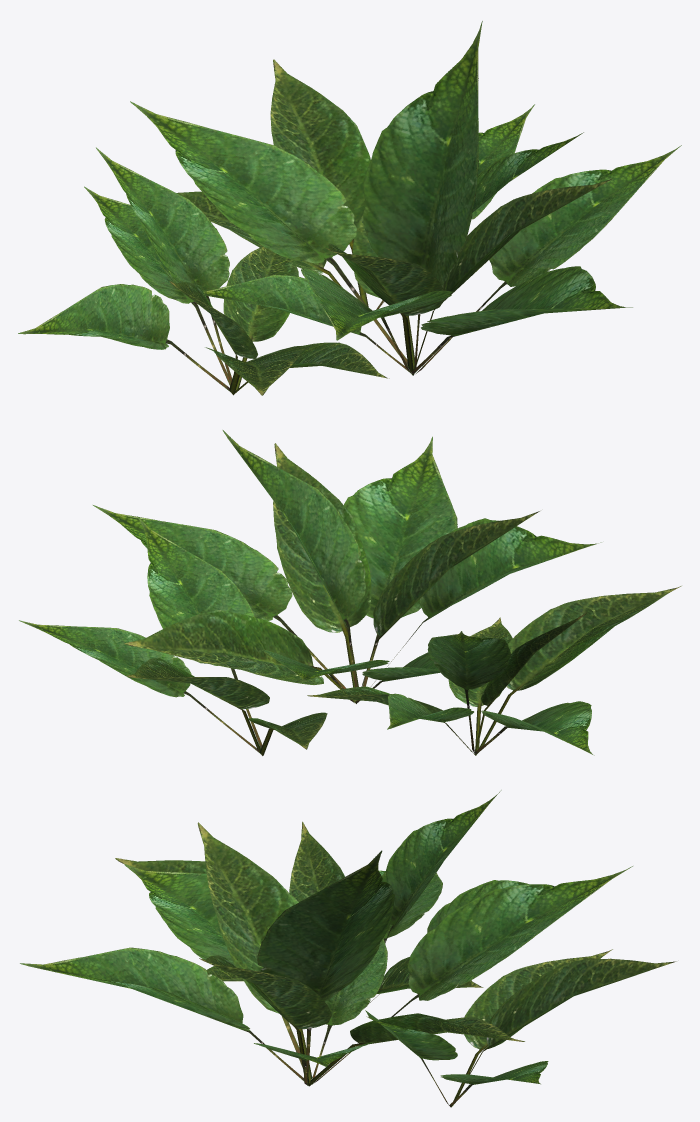
The model's file is MK4_Trop_Plant1.DAE.
3 views of the same model, one above another, from view 1: azimuth 30°, elevation 25°; view 2: azimuth 150°, elevation 25°; view 3: azimuth 270°, elevation 25° (orthographic). The views are drawn at different scales.
Parts seen in each view (by area): view 1: MK4_Plant1; view 2: MK4_Plant1; view 3: MK4_Plant1.
Boxes of the visible parts, left/top/right/bottom form: MK4_Plant1: left=18, top=21, right=681, bottom=395; MK4_Plant1: left=19, top=430, right=681, bottom=755; MK4_Plant1: left=20, top=790, right=676, bottom=1107.
Size of the model in its own units: 1.77 by 1.76 by 0.8656.
